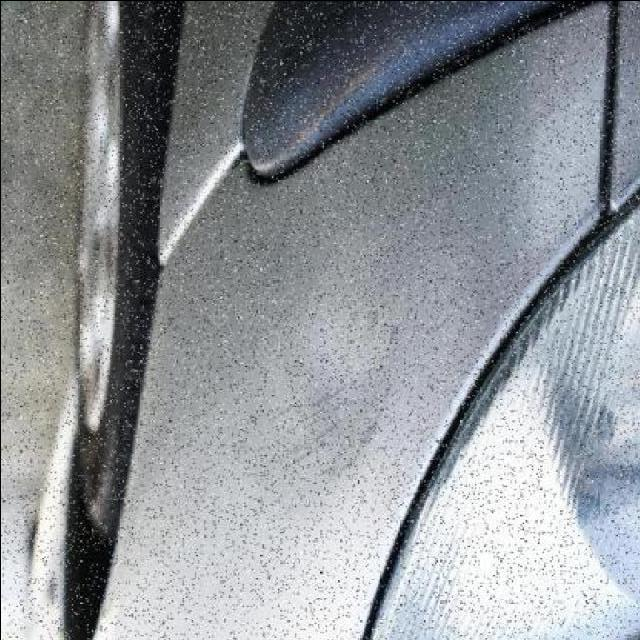front-bumper-dent: (33, 114, 572, 640)
